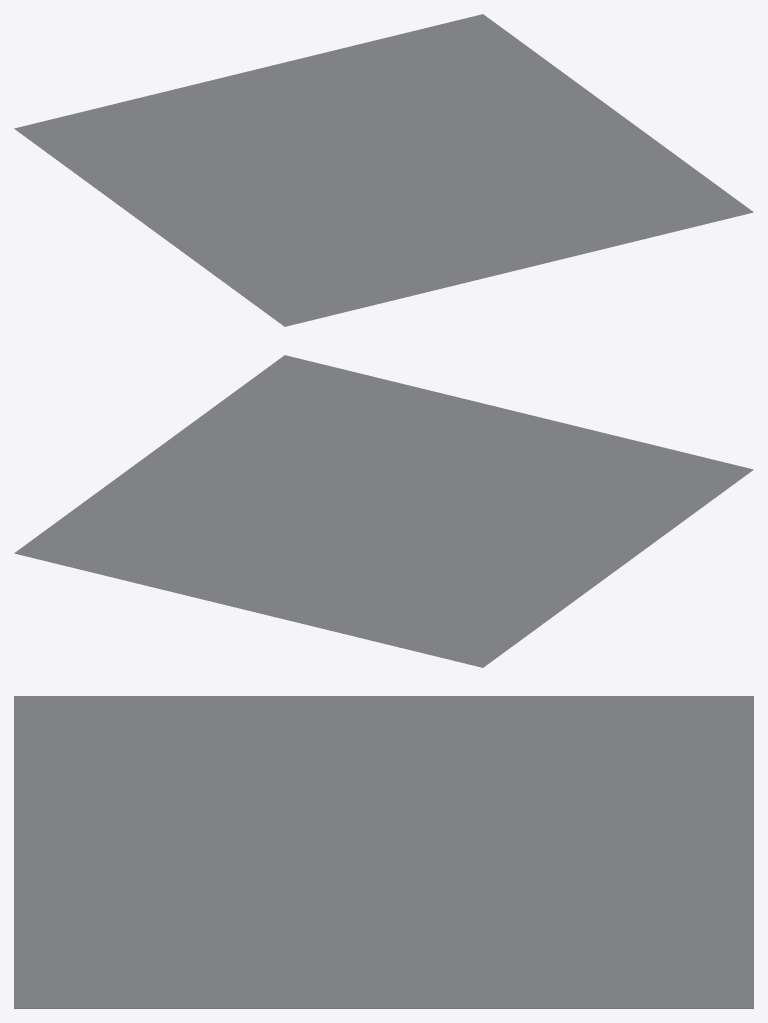
Rendered from CellFloor.gltf.
The picture shows the model from 3 angles, top to bottom: view 1: azimuth 30°, elevation 25°; view 2: azimuth 150°, elevation 25°; view 3: azimuth 270°, elevation 25°; orthographic projection. The views are drawn at different scales.
Visible parts, largest first — view 1: Workshop floor; view 2: Workshop floor; view 3: Workshop floor.
Boxes of the visible parts, x1=… form: Workshop floor: x1=14, y1=14, x2=753, y2=326; Workshop floor: x1=14, y1=355, x2=753, y2=667; Workshop floor: x1=14, y1=696, x2=753, y2=1008.
Bounding box in the file's own units: 200 × 0.045 × 200.
Materials: 1 (1 with a texture image).
